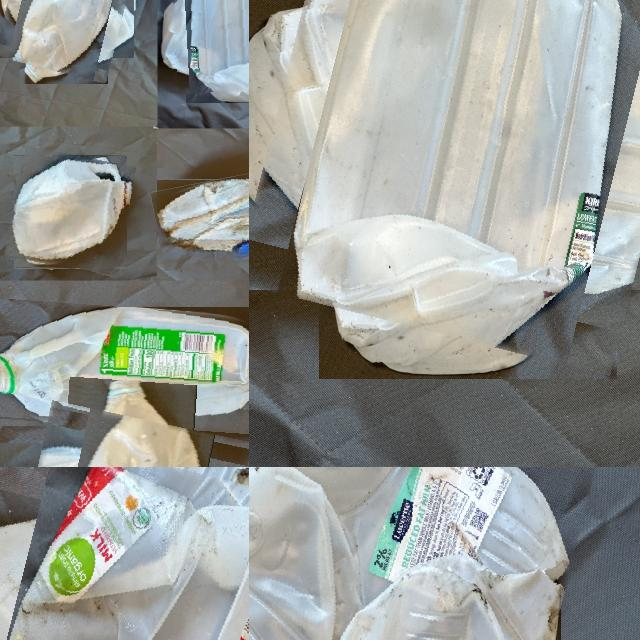milk-jug: (254, 0, 640, 354), (249, 467, 580, 640), (0, 467, 249, 640), (0, 301, 249, 431), (10, 150, 132, 272), (24, 408, 244, 467), (0, 0, 127, 76), (152, 172, 249, 264), (172, 0, 249, 91)
